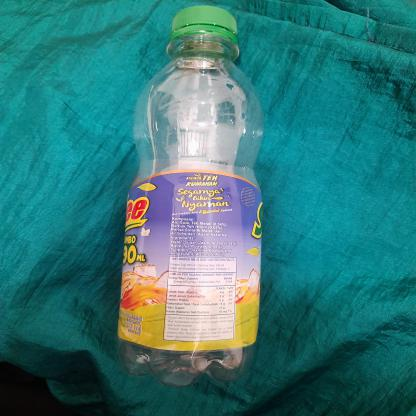bottle: (112, 1, 270, 390)
